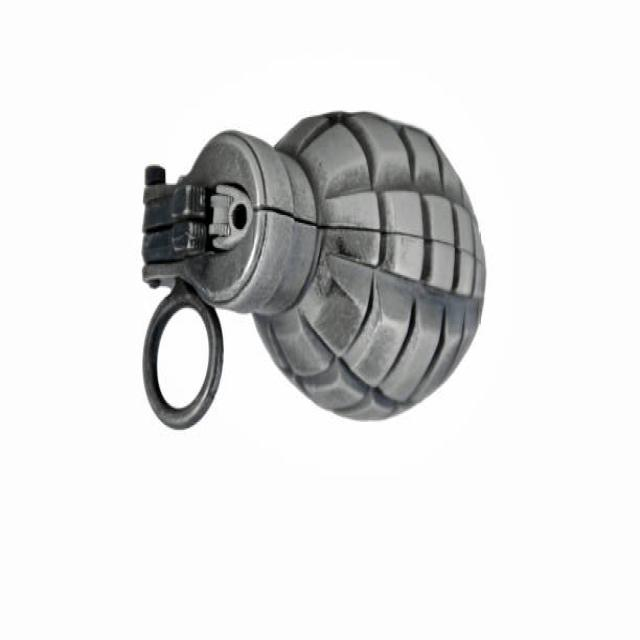grenade: (130, 100, 502, 441)
